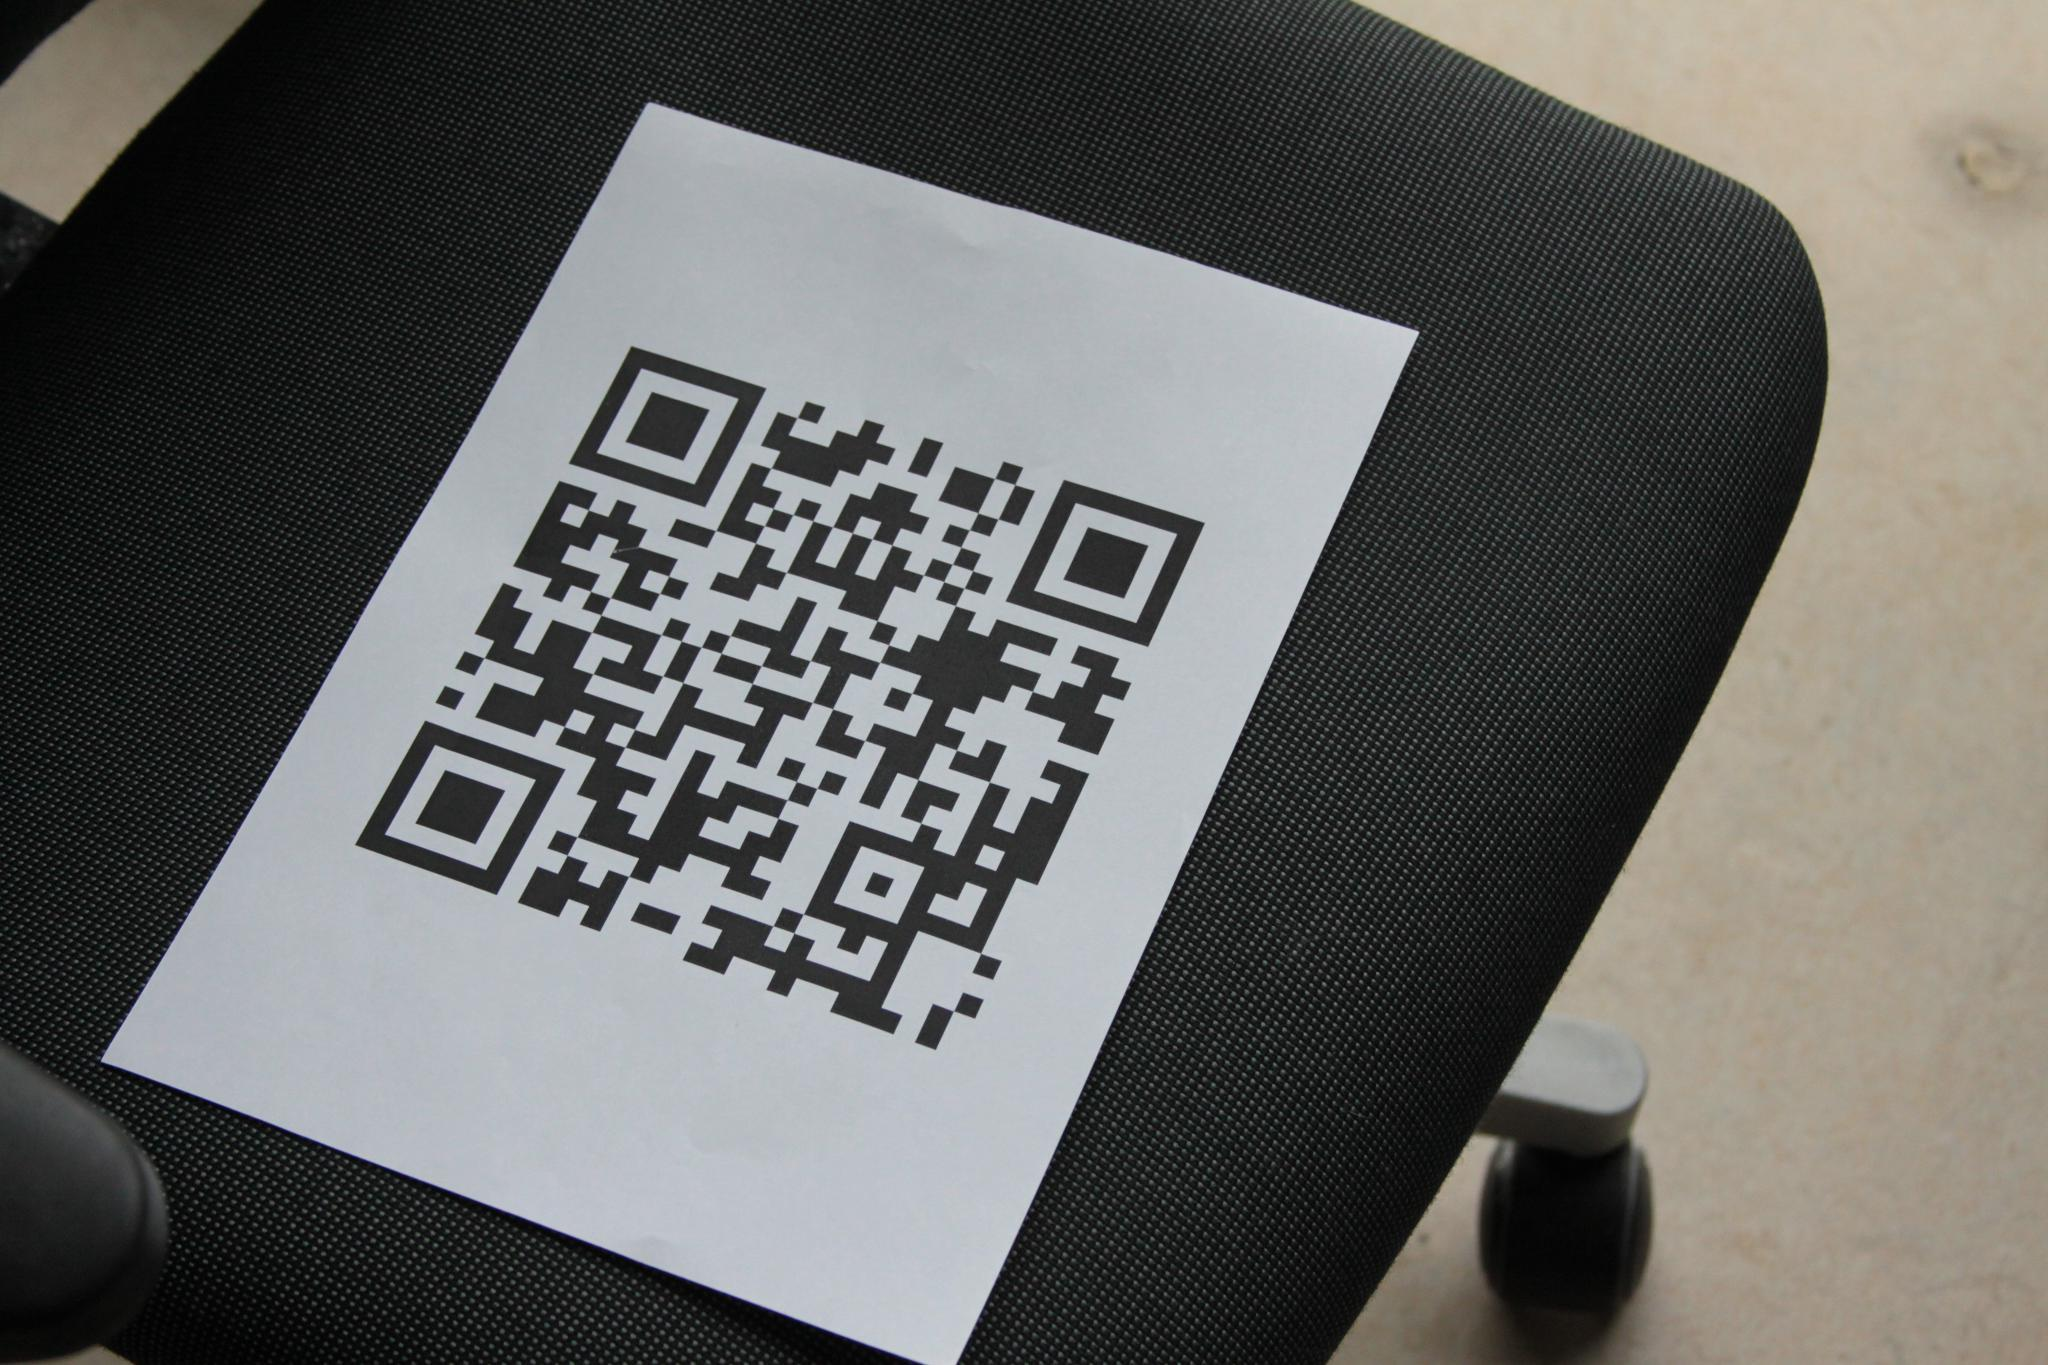Finder pattern: (355, 722, 553, 894), (1006, 487, 1201, 646), (569, 349, 752, 501)
